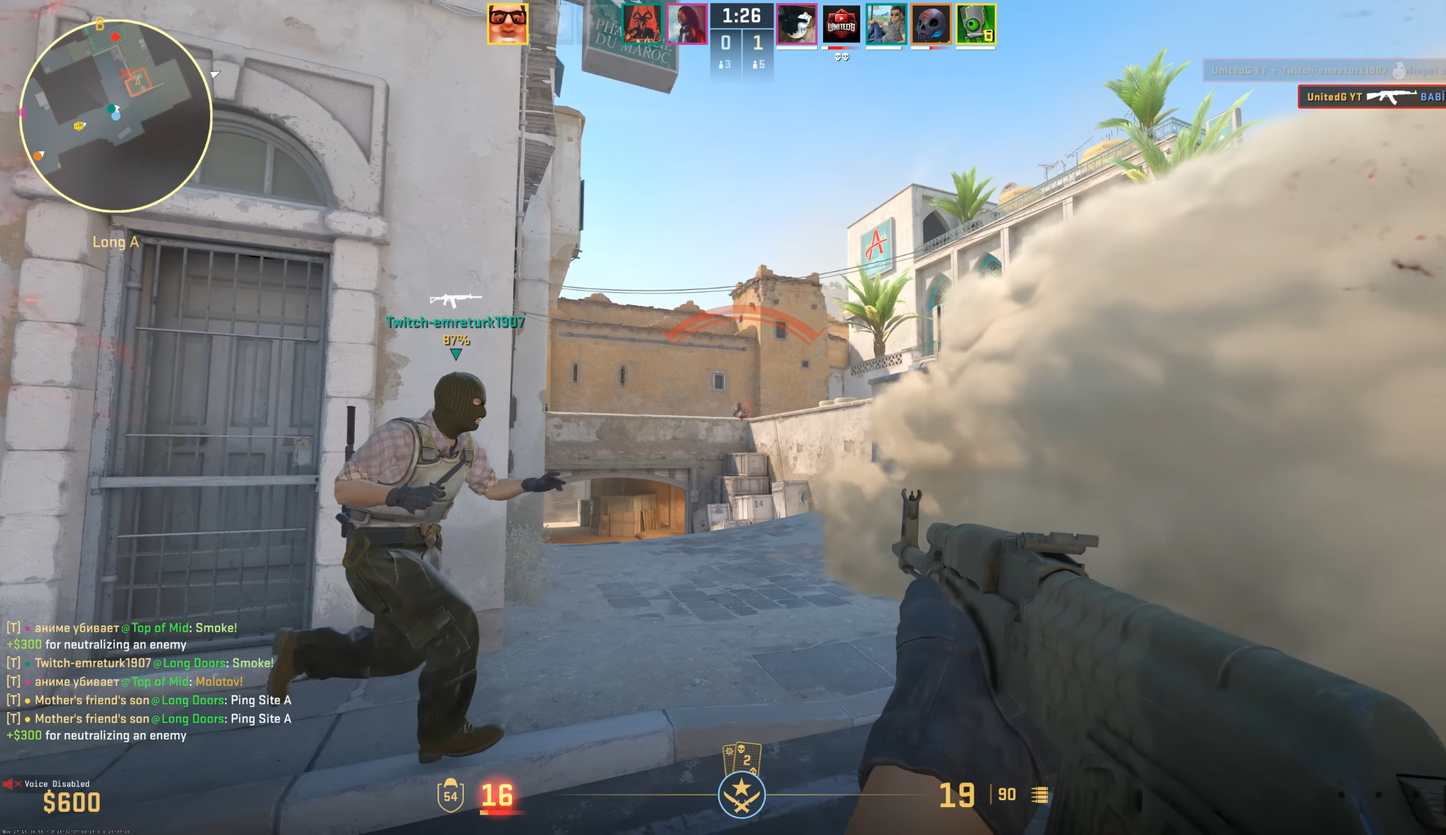CT: (733, 402, 750, 420)
T: (274, 371, 570, 764)
